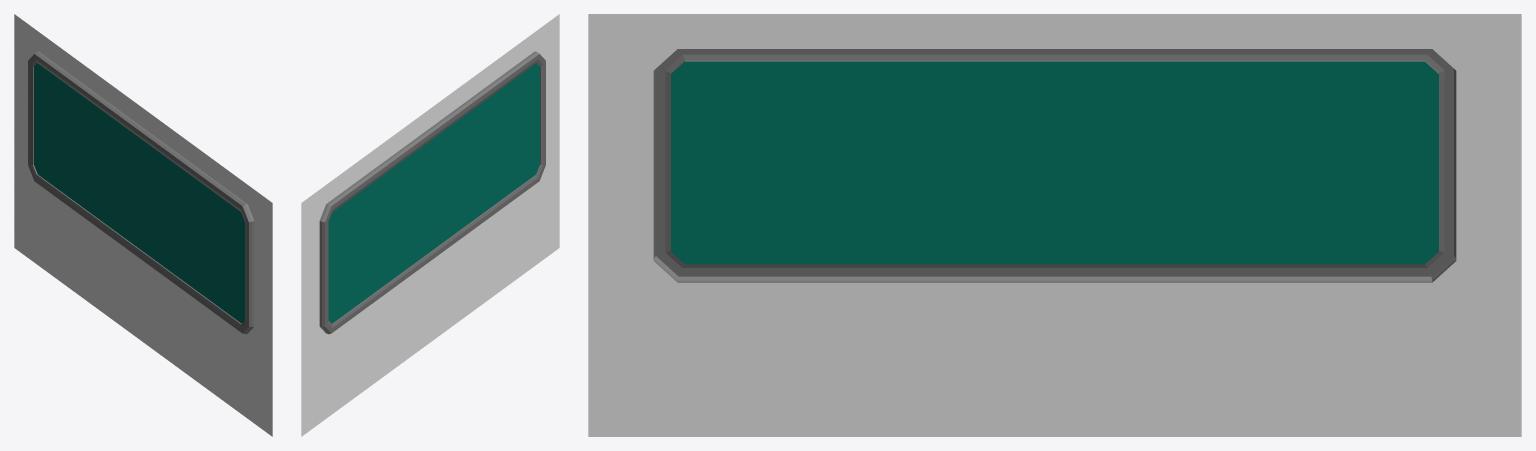
File: S_assete_basement_wall_midel_9.fbx
3 renders of one model, left to right at view 1: azimuth 30°, elevation 25°; view 2: azimuth 150°, elevation 25°; view 3: azimuth 270°, elevation 25°, orthographic. The views are drawn at different scales.
Parts seen in each view (by area): view 1: S_basement_wall_008; view 2: S_basement_wall_008; view 3: S_basement_wall_008.
Part boxes in pixels (box(x1,y1,x2,y2)): S_basement_wall_008: box(14, 14, 272, 436); S_basement_wall_008: box(301, 14, 559, 436); S_basement_wall_008: box(588, 14, 1521, 436).
Size of the model in its own units: 4.52 by 200 by 400.
